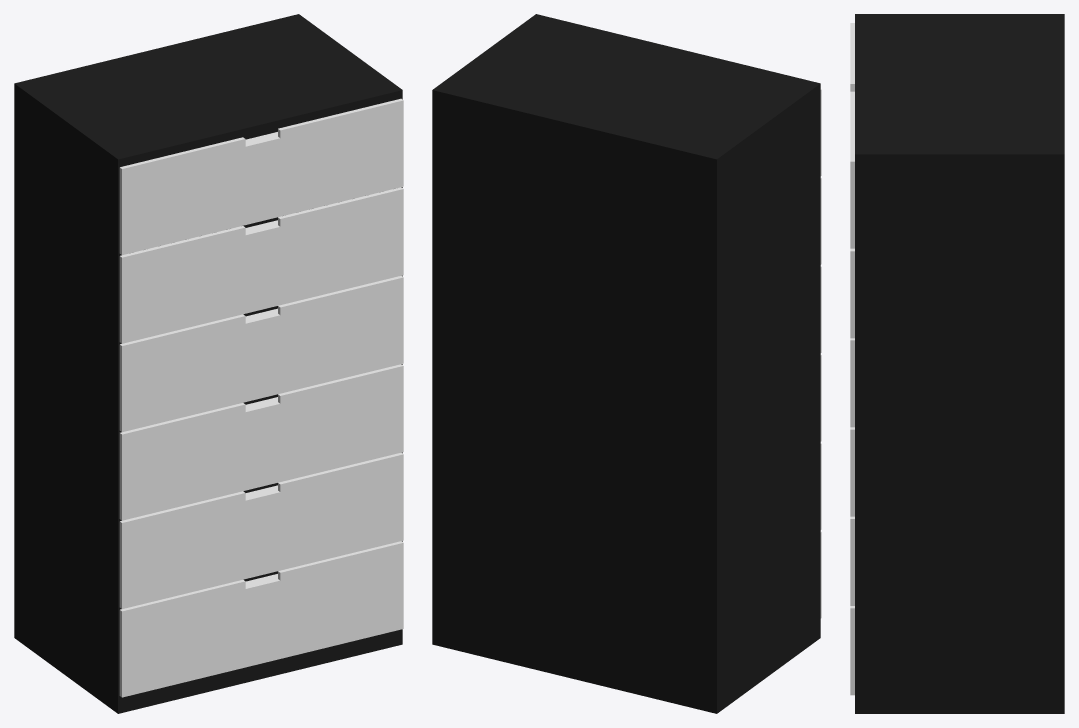
The model's file is Drawer41.fbx.
3 renders of one model, left to right at view 1: azimuth 30°, elevation 25°; view 2: azimuth 150°, elevation 25°; view 3: azimuth 270°, elevation 25°, orthographic.
Visible parts, largest first — view 1: Drawer41_Body, Drawer41_2, Drawer41_1, Drawer41_5, Drawer41_4, Drawer41_3, Drawer41_6; view 2: Drawer41_Body; view 3: Drawer41_Body, Drawer41_1, Drawer41_2, Drawer41_3, Drawer41_4, Drawer41_5, Drawer41_6.
Boxes of the visible parts, x1=… form: Drawer41_Body: x1=14, y1=14, x2=402, y2=713; Drawer41_2: x1=119, y1=187, x2=403, y2=343; Drawer41_1: x1=119, y1=98, x2=403, y2=255; Drawer41_5: x1=119, y1=452, x2=403, y2=608; Drawer41_4: x1=119, y1=364, x2=403, y2=520; Drawer41_3: x1=119, y1=275, x2=403, y2=432; Drawer41_6: x1=119, y1=541, x2=403, y2=697; Drawer41_Body: x1=432, y1=14, x2=820, y2=713; Drawer41_Body: x1=855, y1=14, x2=1064, y2=713; Drawer41_1: x1=850, y1=23, x2=854, y2=248; Drawer41_2: x1=850, y1=248, x2=854, y2=338; Drawer41_3: x1=850, y1=338, x2=854, y2=427; Drawer41_4: x1=850, y1=427, x2=854, y2=516; Drawer41_5: x1=850, y1=516, x2=854, y2=605; Drawer41_6: x1=850, y1=606, x2=854, y2=695.
Bounding box in the file's own units: 47.2 × 87.88 × 30.53.
